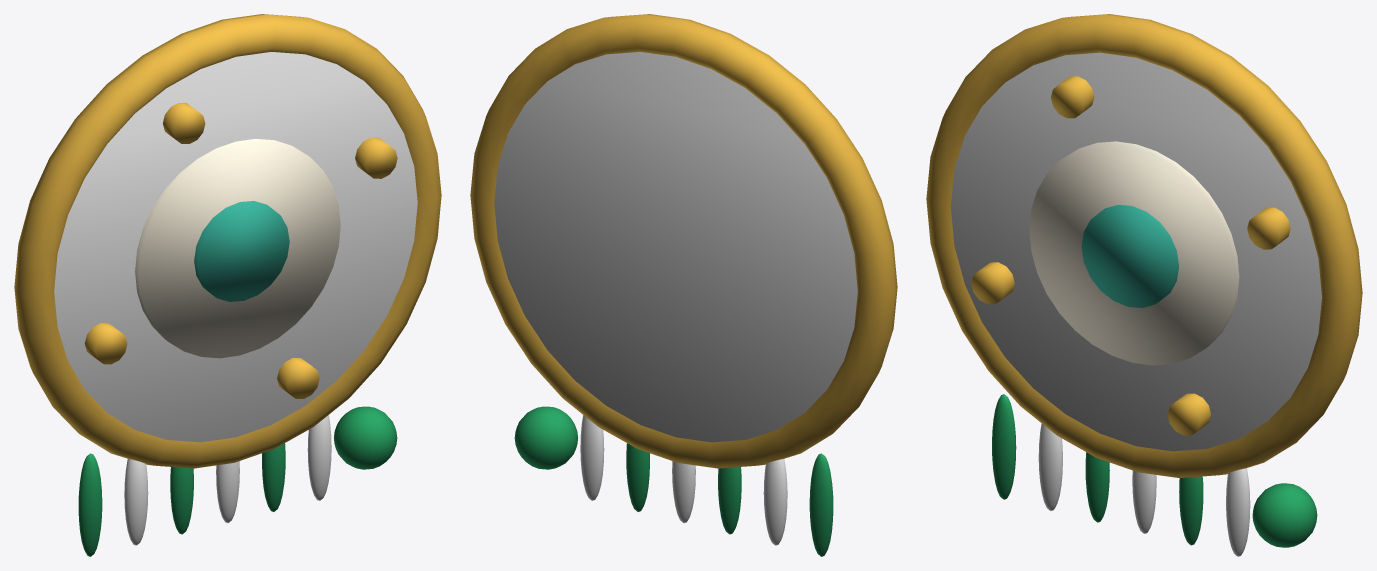
File: chimalli.glb
3 renders of one model, left to right at view 1: azimuth 30°, elevation 25°; view 2: azimuth 150°, elevation 25°; view 3: azimuth 330°, elevation 25°, orthographic. The views are drawn at different scales.
Visible parts, largest first — view 1: chimalli_fijo; view 2: chimalli_fijo; view 3: chimalli_fijo.
Part boxes in pixels (x1=…): chimalli_fijo: x1=14, y1=14, x2=441, y2=556; chimalli_fijo: x1=470, y1=14, x2=897, y2=556; chimalli_fijo: x1=926, y1=14, x2=1362, y2=556.
Size of the model in its own units: 0.92 by 1.05 by 0.13.
2 materials, 2 textured.
